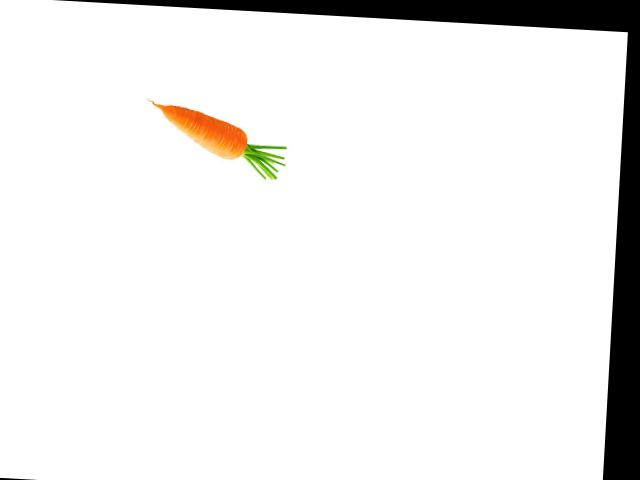carrot: (143, 98, 234, 163)
